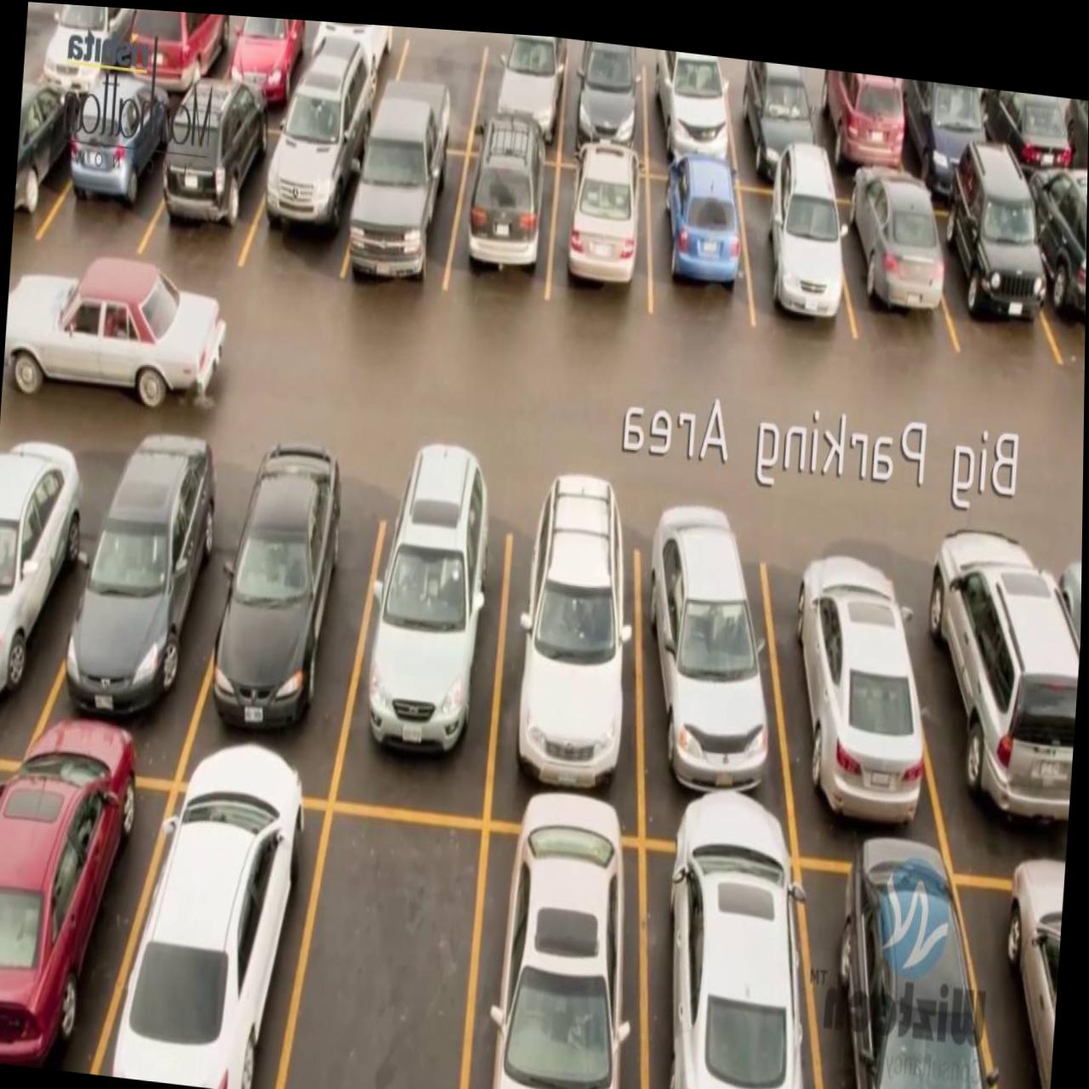cars: (31, 461, 252, 772), (337, 469, 523, 807), (909, 505, 1082, 868), (141, 776, 318, 1089), (486, 476, 644, 824), (636, 503, 794, 842), (623, 830, 822, 1089), (785, 844, 991, 1089), (465, 816, 647, 1089), (0, 755, 150, 1079), (206, 479, 364, 782), (784, 538, 929, 852), (932, 179, 1062, 382), (252, 82, 374, 291), (0, 467, 92, 744), (163, 74, 284, 284), (447, 127, 563, 342), (342, 117, 467, 314), (66, 70, 184, 271), (630, 155, 753, 340), (541, 147, 660, 337), (840, 163, 939, 379), (742, 168, 840, 344), (12, 43, 88, 248), (632, 47, 737, 189), (1027, 167, 1088, 397), (720, 57, 818, 192), (558, 38, 654, 175), (476, 33, 571, 160), (220, 15, 310, 134)
empty: (308, 809, 481, 1089), (388, 26, 484, 145)
